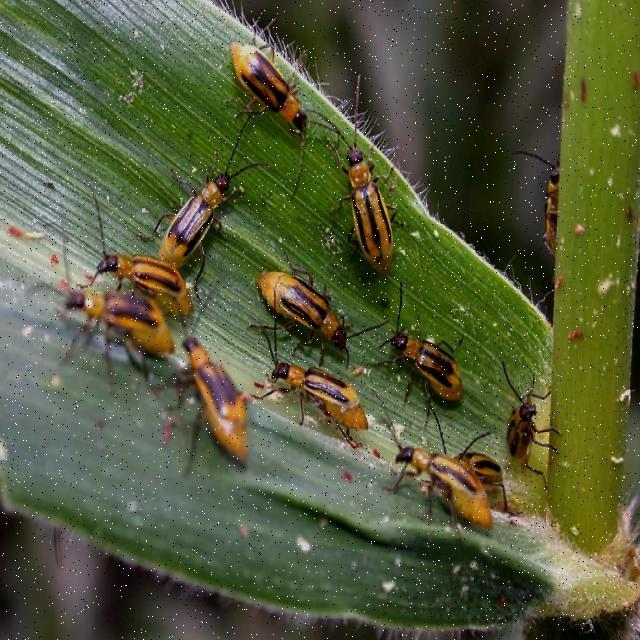trips: (56, 194, 175, 394), (306, 72, 408, 274), (253, 277, 370, 448), (229, 33, 341, 199), (246, 249, 391, 372), (376, 392, 493, 540), (380, 280, 466, 457), (87, 180, 193, 318), (428, 402, 510, 512), (502, 362, 560, 488), (514, 146, 560, 258)
